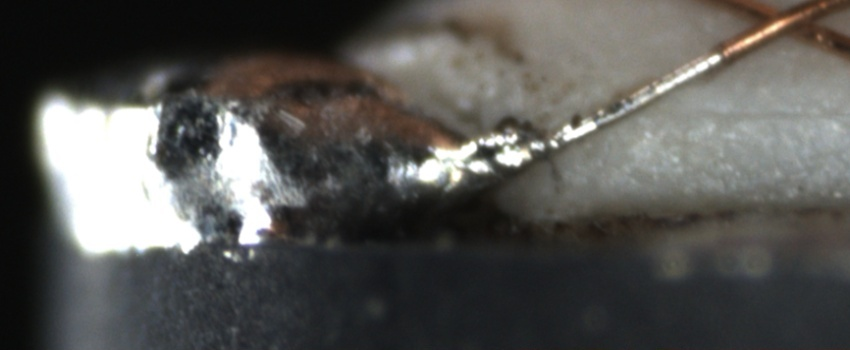CL: (732, 1, 844, 47)
DL: (688, 84, 850, 145)
TS: (547, 53, 721, 150)
TTCW: (432, 31, 759, 193)
